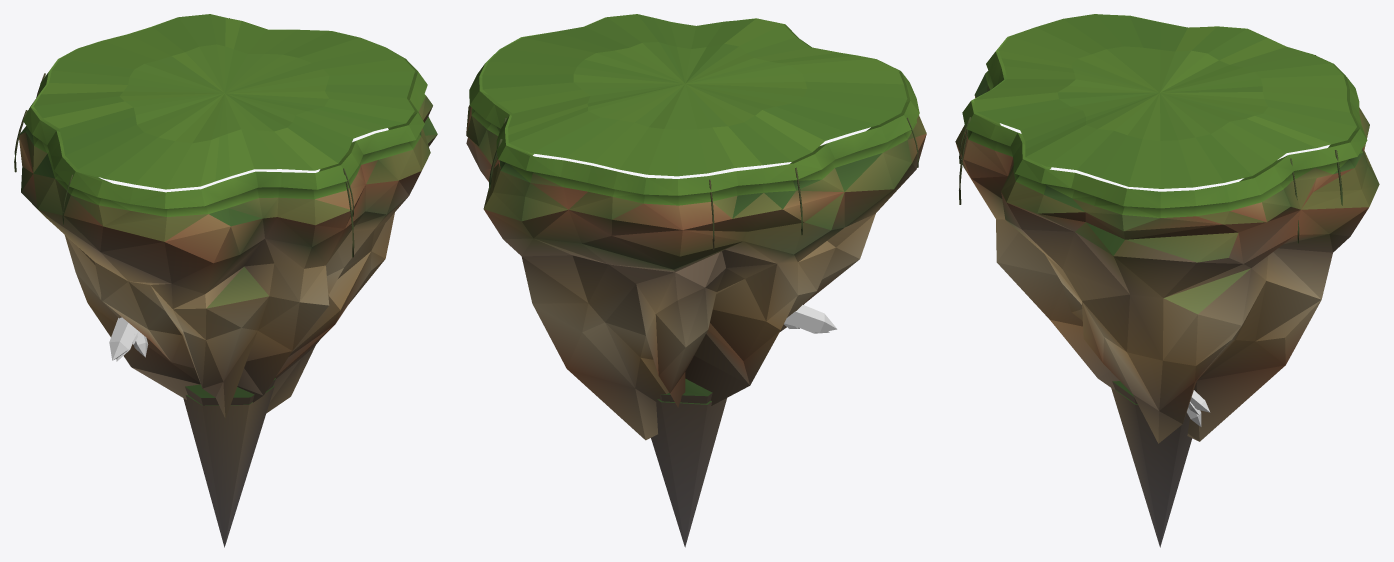
Rendered from FloatIsleA.glb.
The picture shows the model from 3 angles, left to right: view 1: azimuth 30°, elevation 25°; view 2: azimuth 150°, elevation 25°; view 3: azimuth 270°, elevation 25°; orthographic projection. The views are drawn at different scales.
Visible parts, largest first — view 1: Isle, IsleTop, IsleCrystals, IsleVines; view 2: Isle, IsleTop, IsleCrystals, IsleVines; view 3: Isle, IsleTop, IsleVines.
Part boxes in pixels (x1=…): Isle: x1=19, y1=18, x2=437, y2=547; IsleTop: x1=33, y1=14, x2=414, y2=189; IsleCrystals: x1=109, y1=317, x2=148, y2=361; IsleVines: x1=14, y1=18, x2=354, y2=257; Isle: x1=466, y1=14, x2=926, y2=547; IsleTop: x1=482, y1=14, x2=907, y2=176; IsleCrystals: x1=784, y1=305, x2=837, y2=333; IsleVines: x1=488, y1=117, x2=918, y2=250; Isle: x1=955, y1=14, x2=1379, y2=547; IsleTop: x1=974, y1=14, x2=1356, y2=188; IsleVines: x1=959, y1=55, x2=1342, y2=243.
Bounding box in the file's own units: 51.33 × 57.86 × 48.77.
